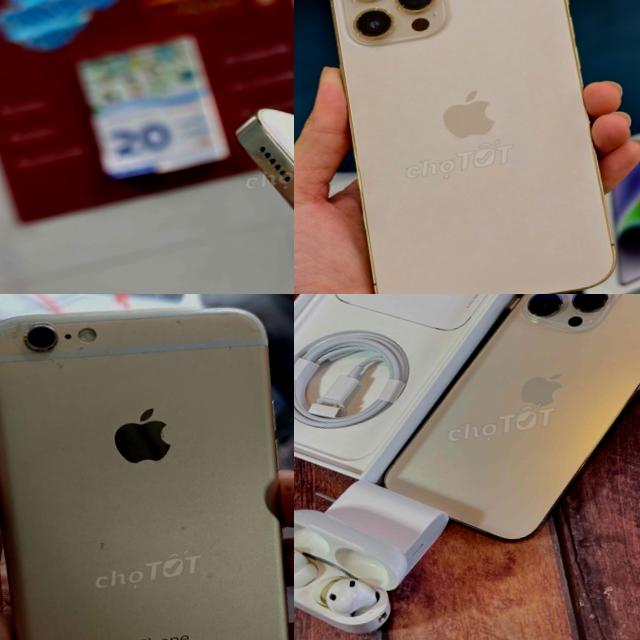gen_12_13: (320, 0, 626, 294)
gen_14: (355, 294, 640, 562)
gen_6: (0, 294, 294, 640)
scratch: (0, 298, 128, 384), (162, 294, 252, 370)
